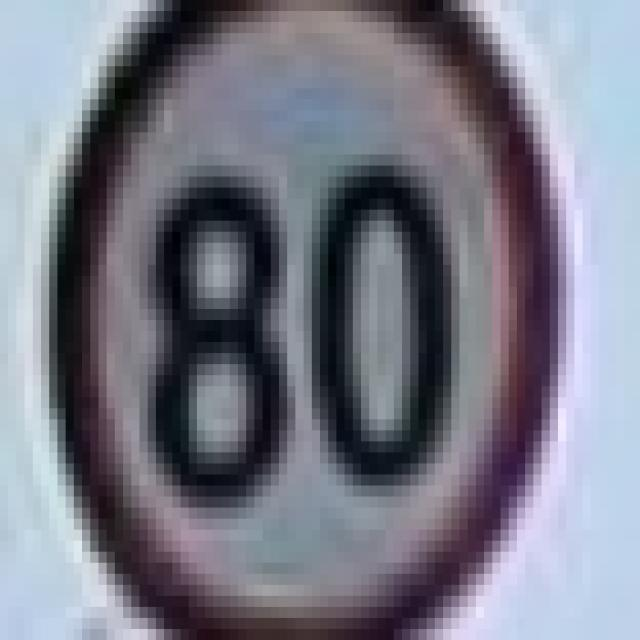Speed Limit -80-: (144, 151, 461, 514)
